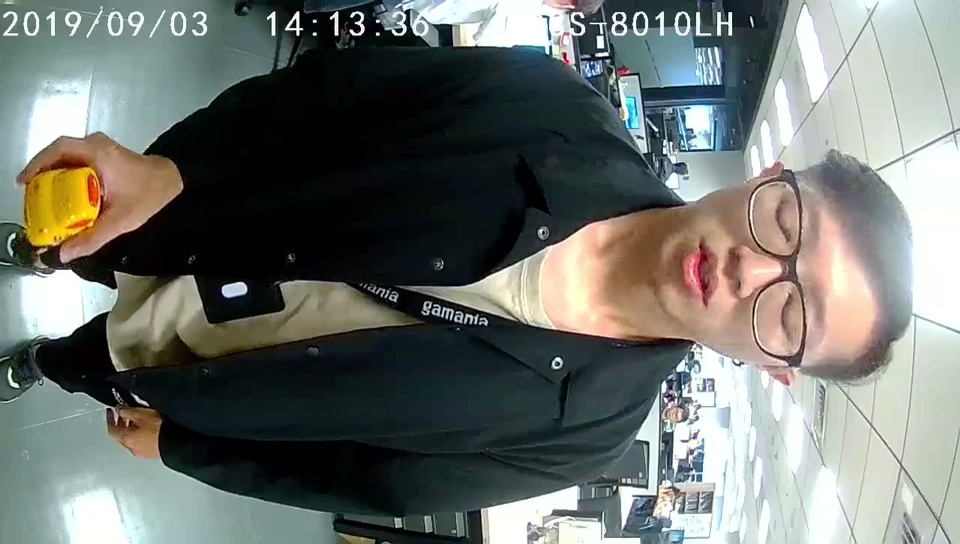car: (21, 165, 102, 243)
